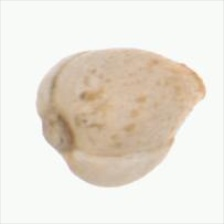L4: (36, 48, 207, 187)
